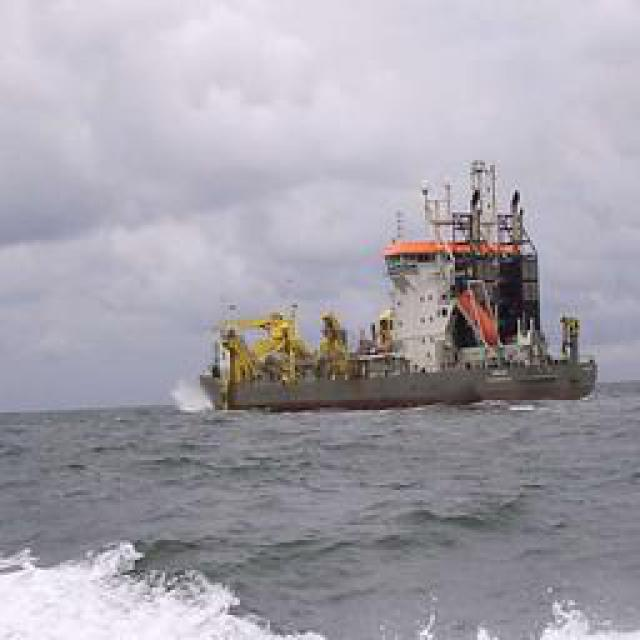Ship: (197, 157, 597, 417)
